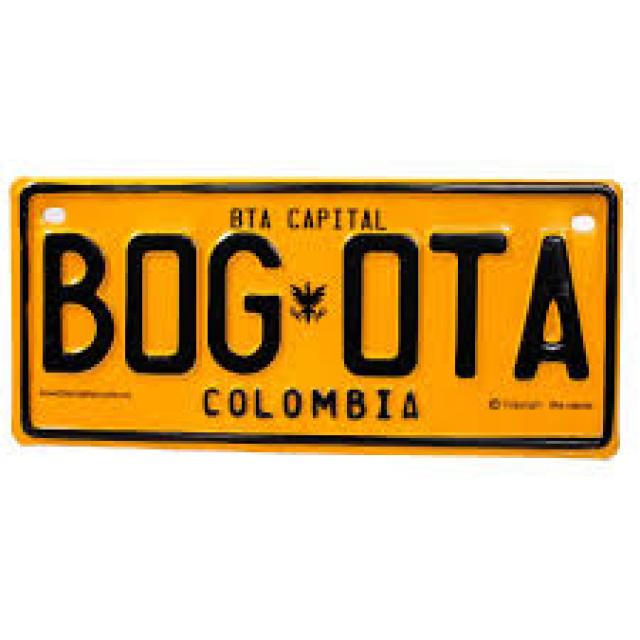number plate: (9, 176, 614, 449)
